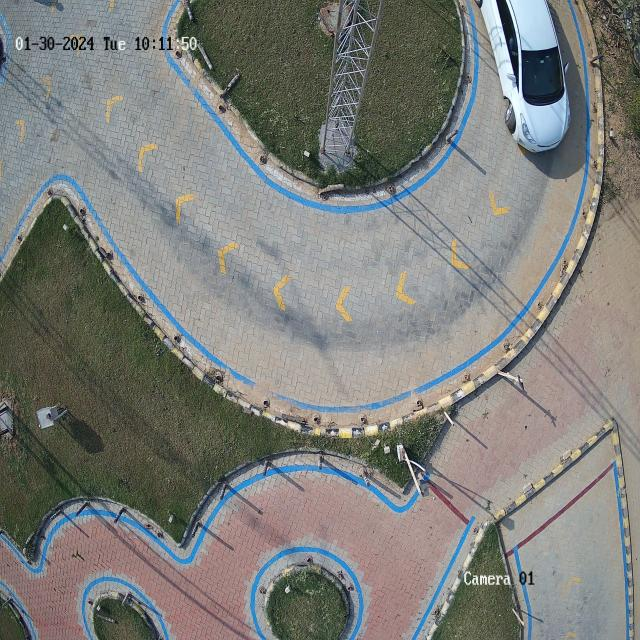car: (476, 0, 570, 152)
